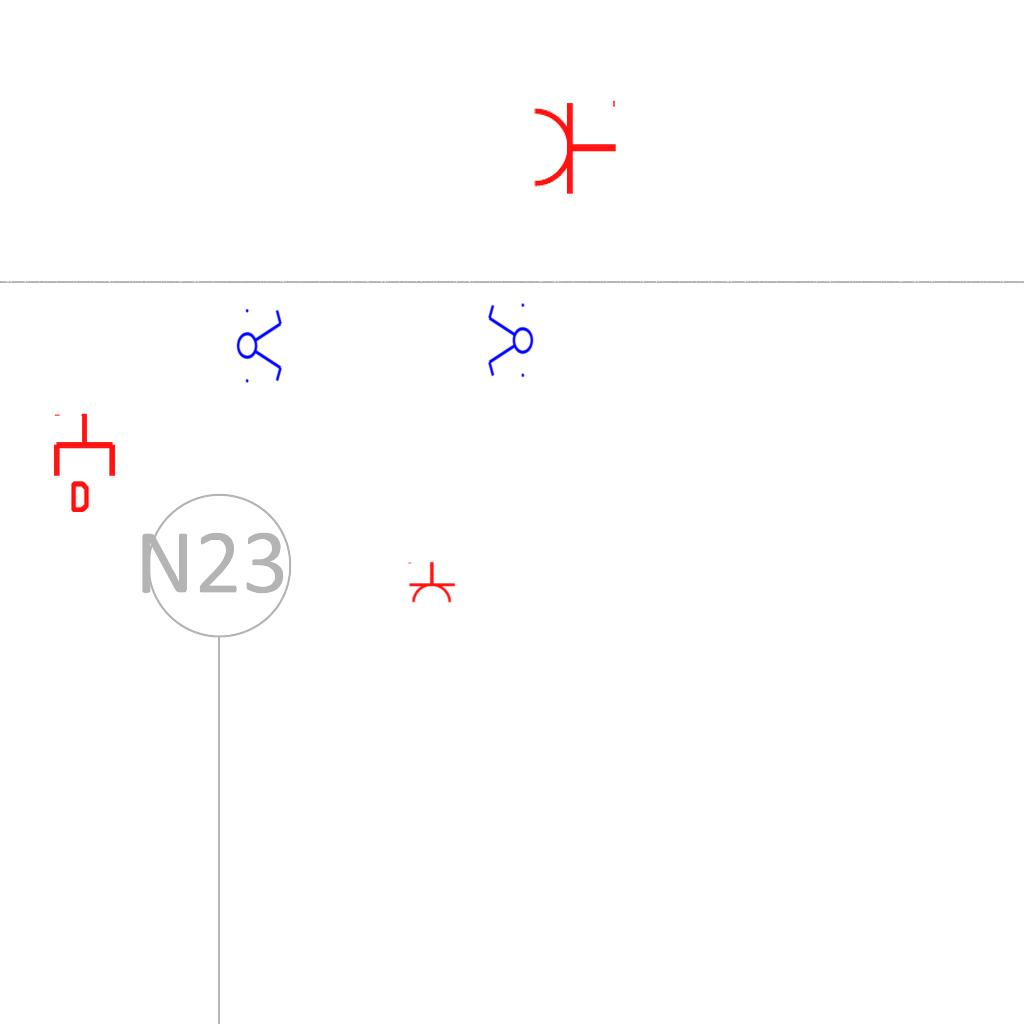Datenanschluss_einfach: (50, 412, 119, 512)
Schukosteckdose_einfach: (531, 96, 618, 196), (406, 561, 456, 604)
Serienschalter: (236, 303, 284, 387), (486, 299, 534, 383)
